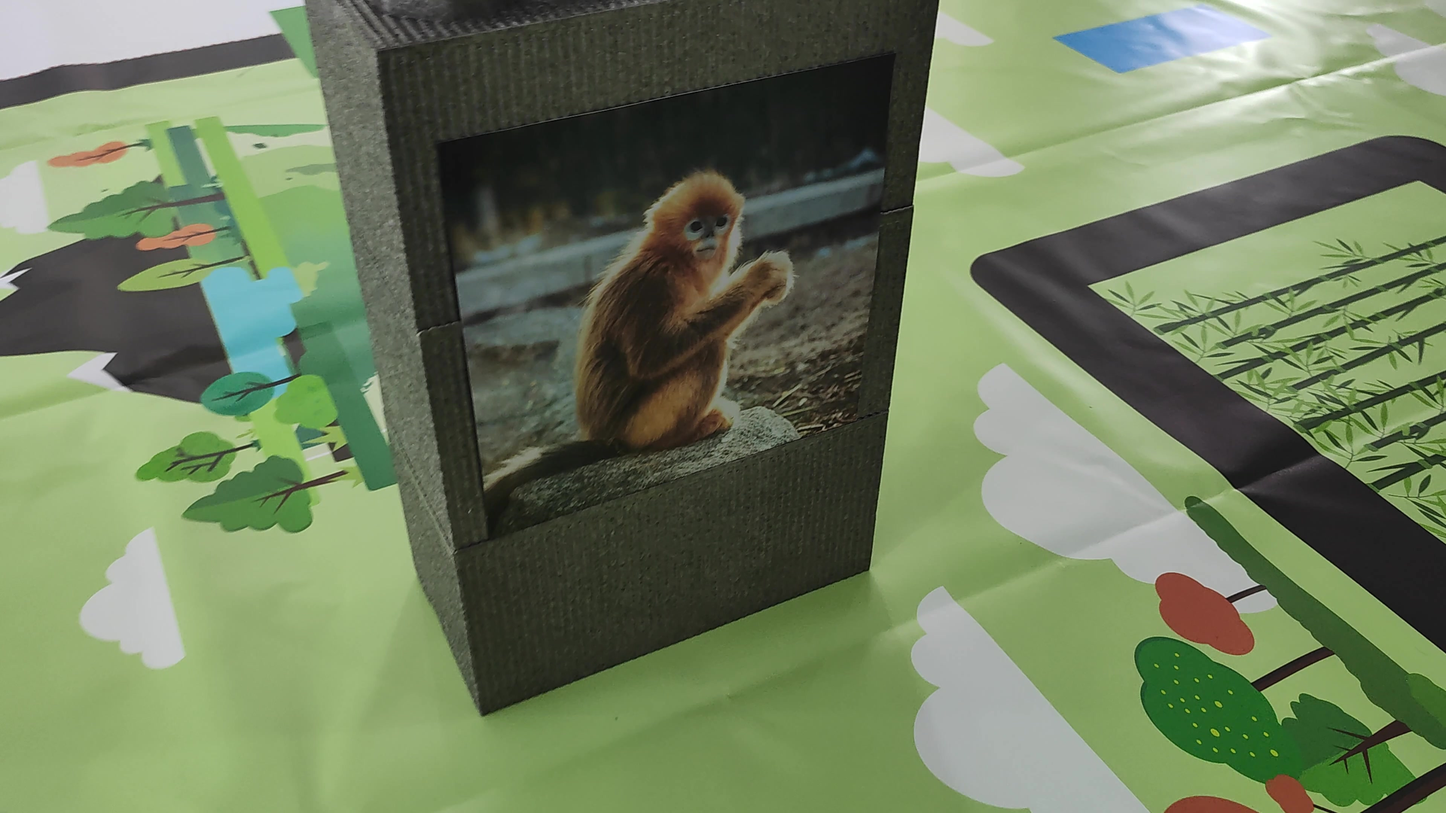monkey: (469, 154, 836, 512)
